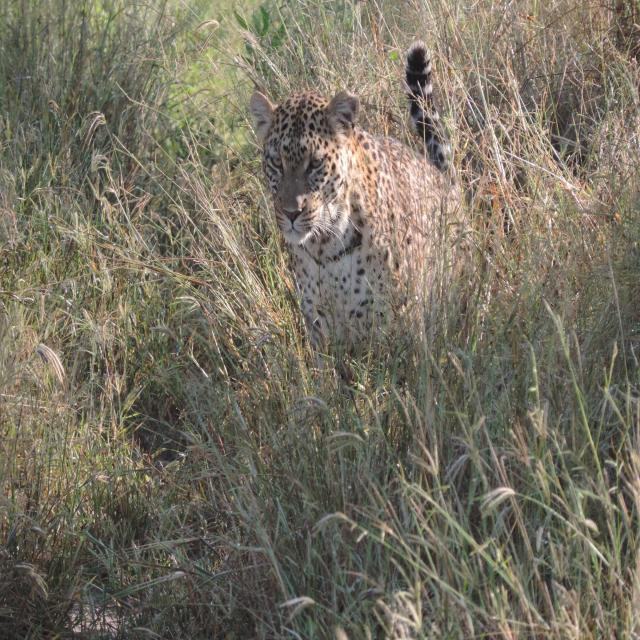Leopard: (262, 67, 478, 358)
